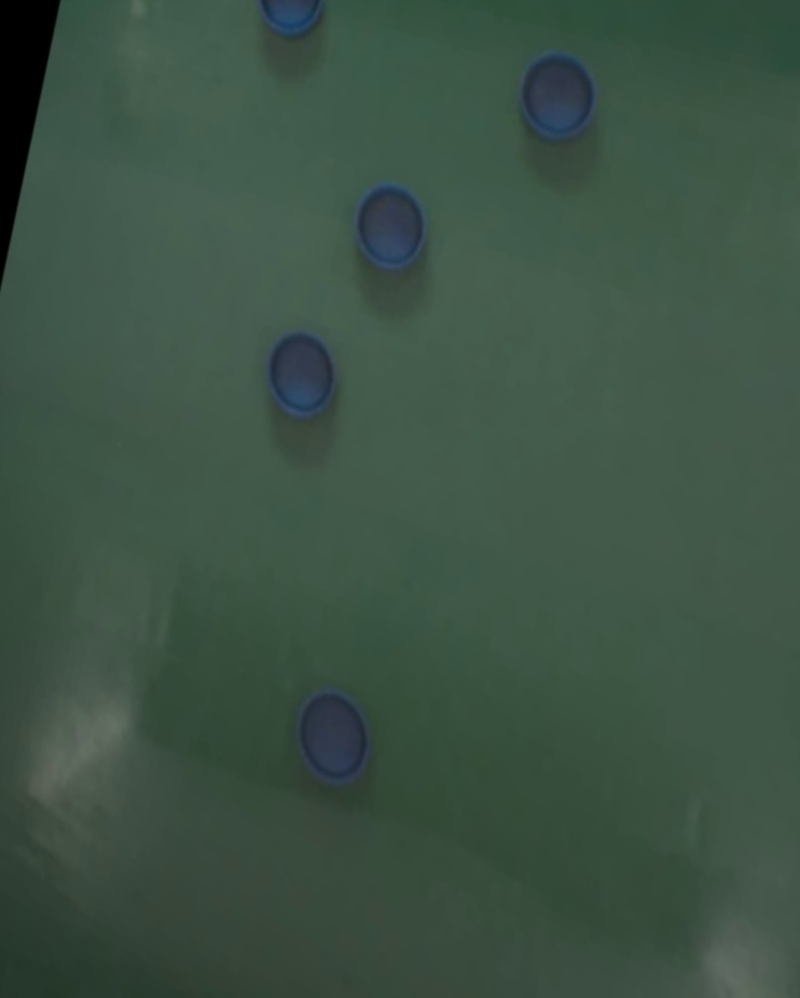Dark Blue: (290, 674, 377, 804), (511, 42, 605, 151), (259, 321, 341, 433), (350, 179, 435, 280), (249, 0, 330, 44)
